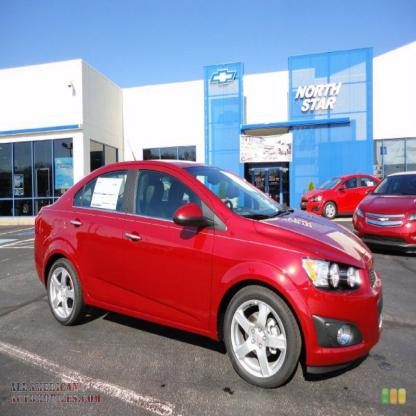Vehicle: (32, 160, 384, 388)
